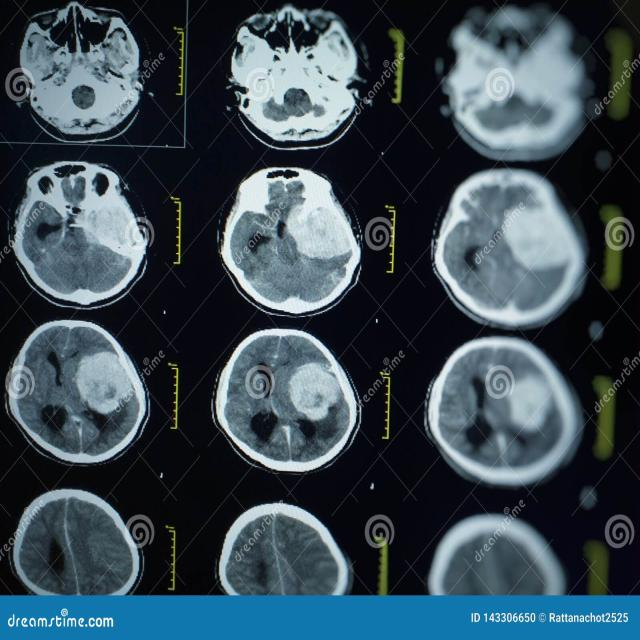Tumor: (505, 207, 571, 268), (285, 203, 351, 258), (290, 362, 342, 422), (79, 351, 129, 408), (508, 378, 552, 426)
